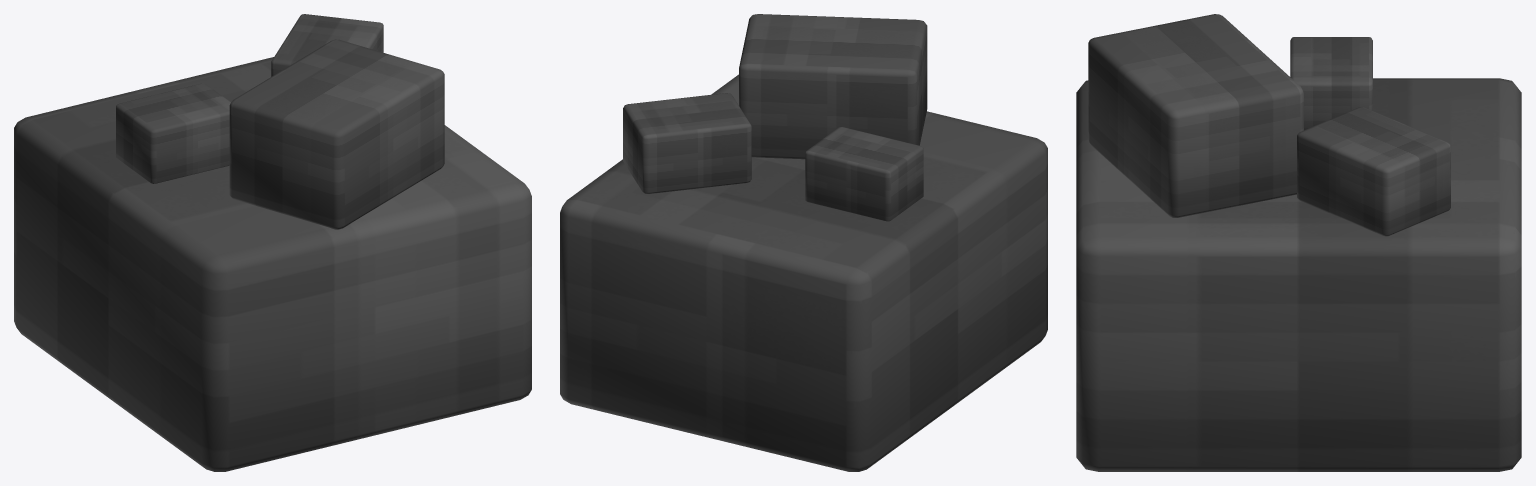
Rendered from Roca2.fbx.
The picture shows the model from 3 angles, left to right: view 1: azimuth 30°, elevation 25°; view 2: azimuth 150°, elevation 25°; view 3: azimuth 270°, elevation 25°; orthographic projection. The views are drawn at different scales.
Parts seen in each view (by area): view 1: Cube.001, Cube.004, Cube.002, Cube.003; view 2: Cube.001, Cube.004, Cube.003, Cube.002; view 3: Cube.001, Cube.004, Cube.003, Cube.002.
Boxes of the visible parts, box(x1,y1,x2,y2) form: Cube.001: box(14, 57, 531, 471); Cube.004: box(229, 39, 444, 229); Cube.002: box(116, 83, 230, 183); Cube.003: box(271, 14, 383, 76); Cube.001: box(560, 74, 1047, 471); Cube.004: box(739, 14, 927, 159); Cube.003: box(623, 93, 751, 193); Cube.002: box(805, 127, 923, 221); Cube.001: box(1076, 78, 1521, 471); Cube.004: box(1088, 14, 1303, 217); Cube.003: box(1297, 107, 1450, 236); Cube.002: box(1290, 37, 1372, 130).
Size of the model in its own units: 183 by 167 by 199.
